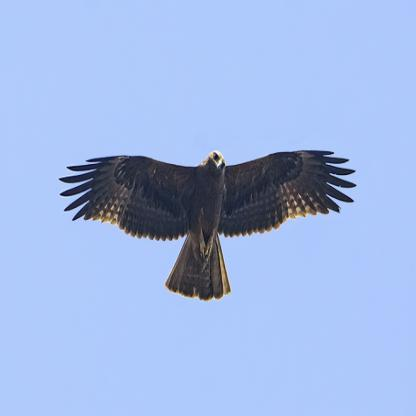Burung: (55, 146, 362, 300)
